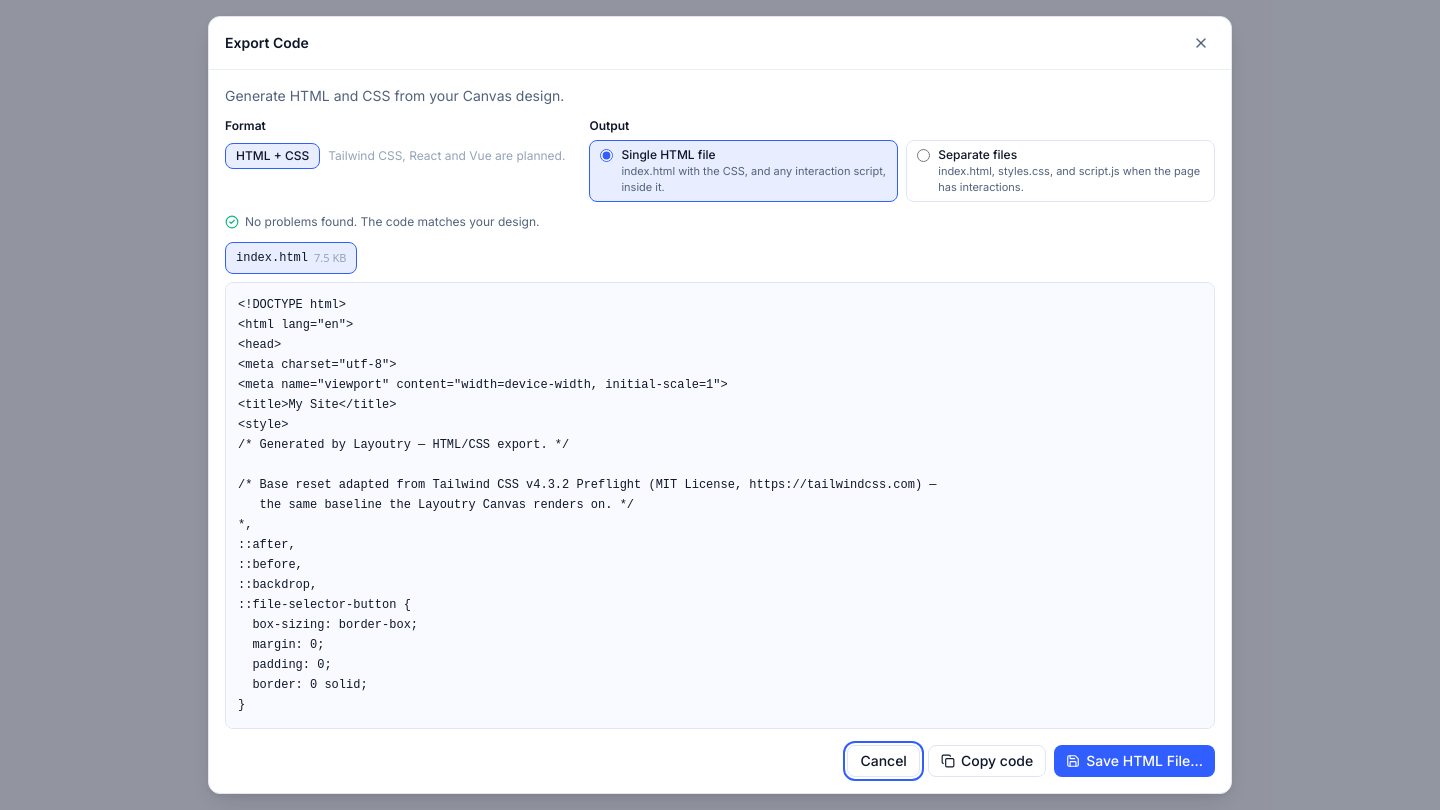
Scenario: ExportCodeDialog — desktop saving › saves exactly the files on screen to the chosen destination
Step 1. Click the radio button labelled "Separate files" → coordinates (924, 156), box [917,149,930,162]
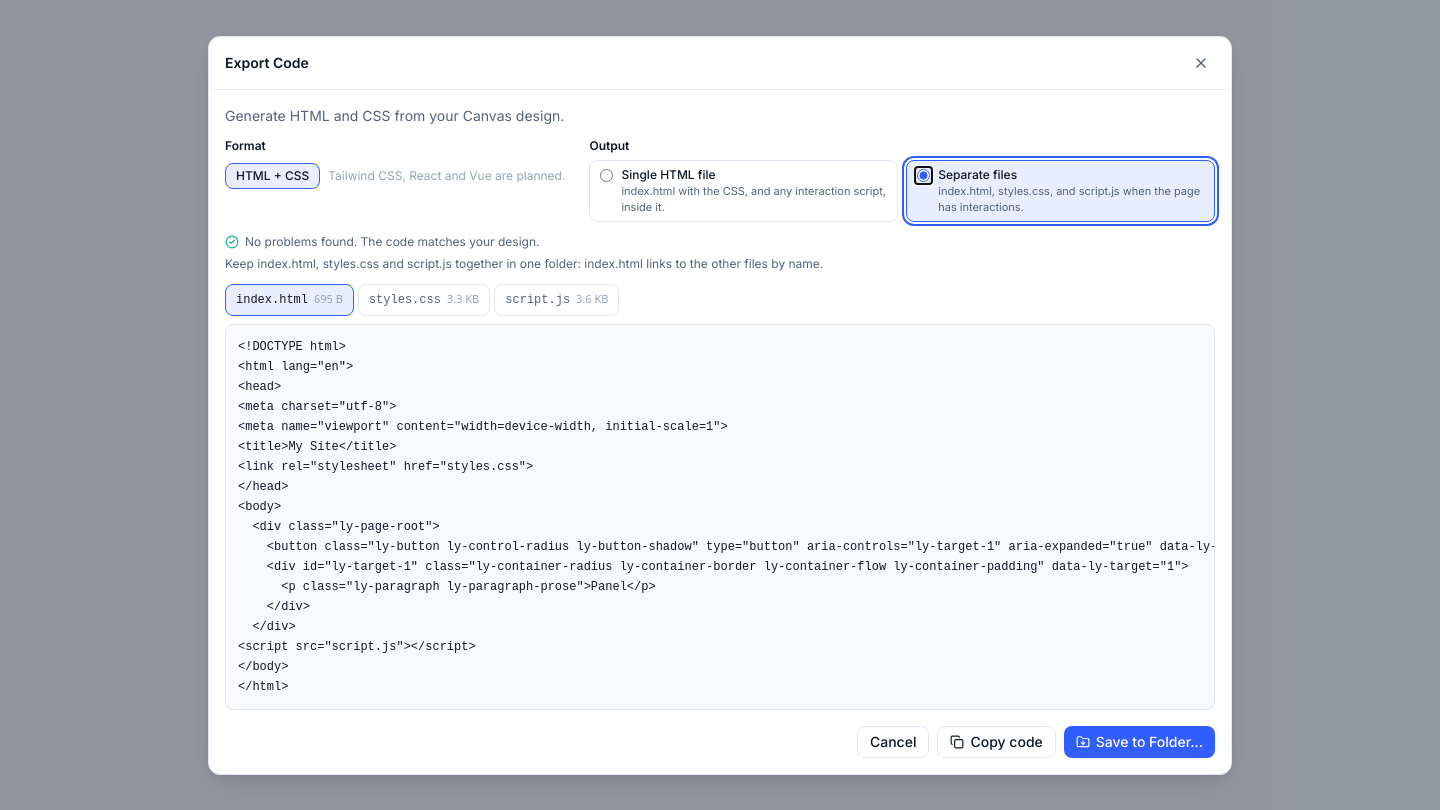
Expected: the number of tabs is 3, [225,284,354,316]; [358,284,490,316]; [494,284,620,316]
Step 2. Click the button "Save to Folder…" → coordinates (1139, 742), box [1064,726,1215,758]
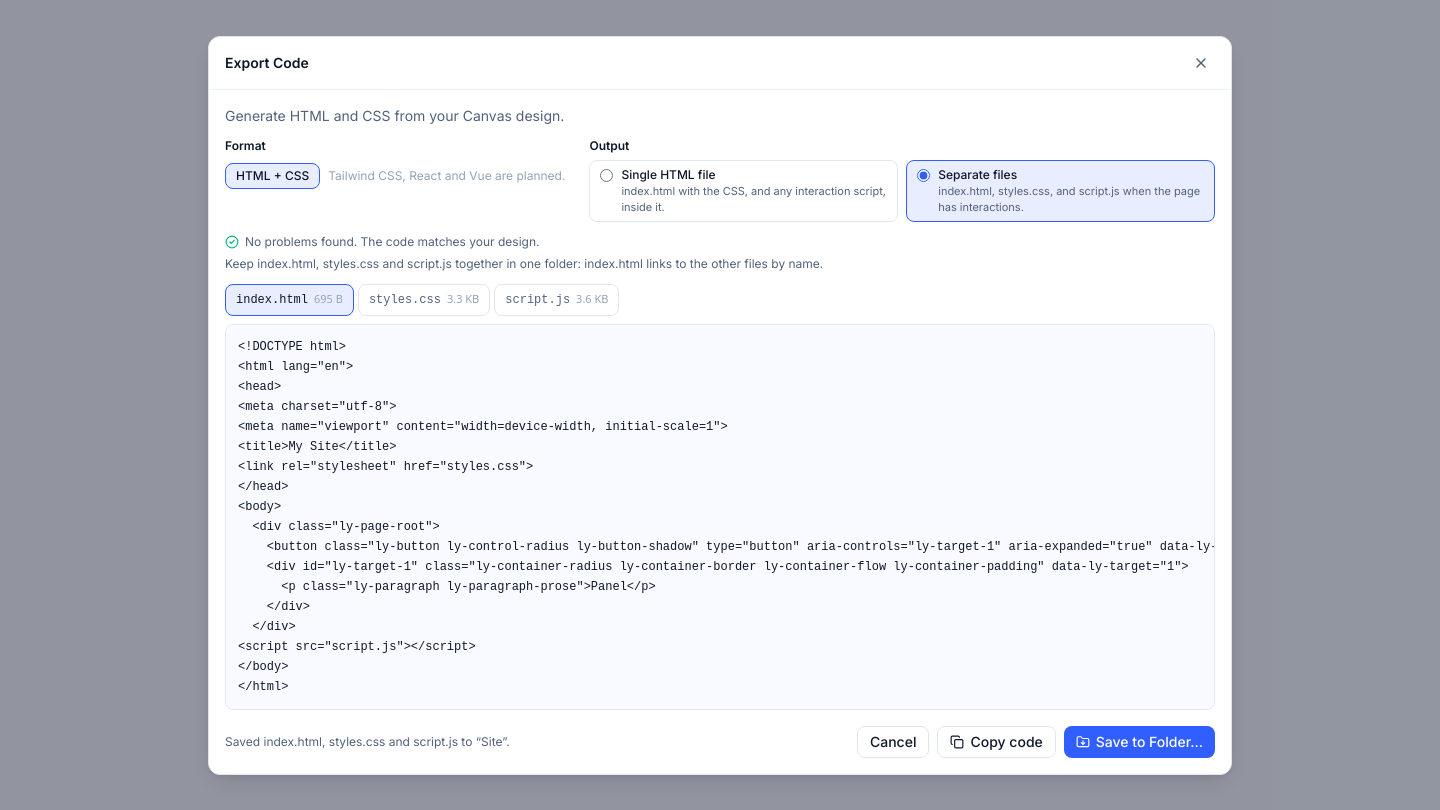
Now the text "Saved index.html, styles.css and script.js to “Site”." is shown, box [225,734,510,748]
